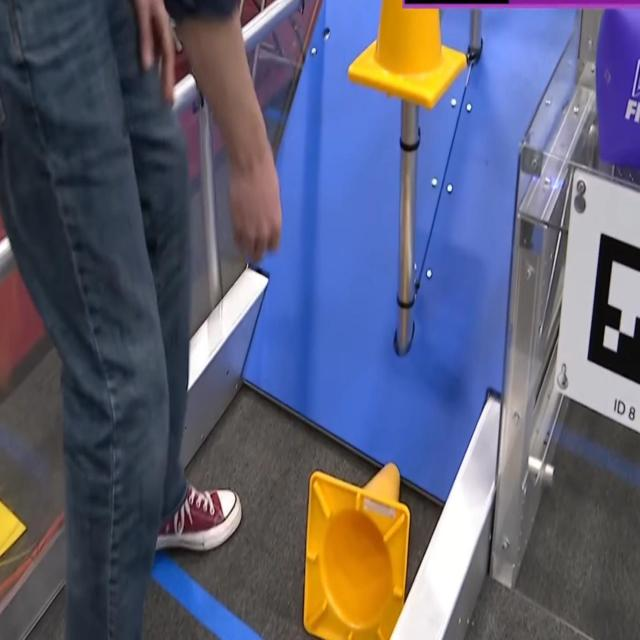frc_cone: (298, 449, 417, 640), (347, 0, 469, 111)
frc_cube: (597, 0, 640, 185)
